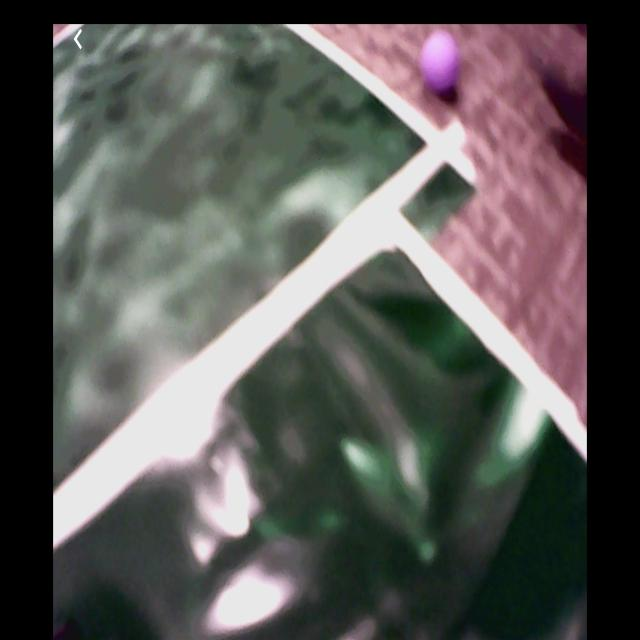ball: (420, 29, 462, 101)
